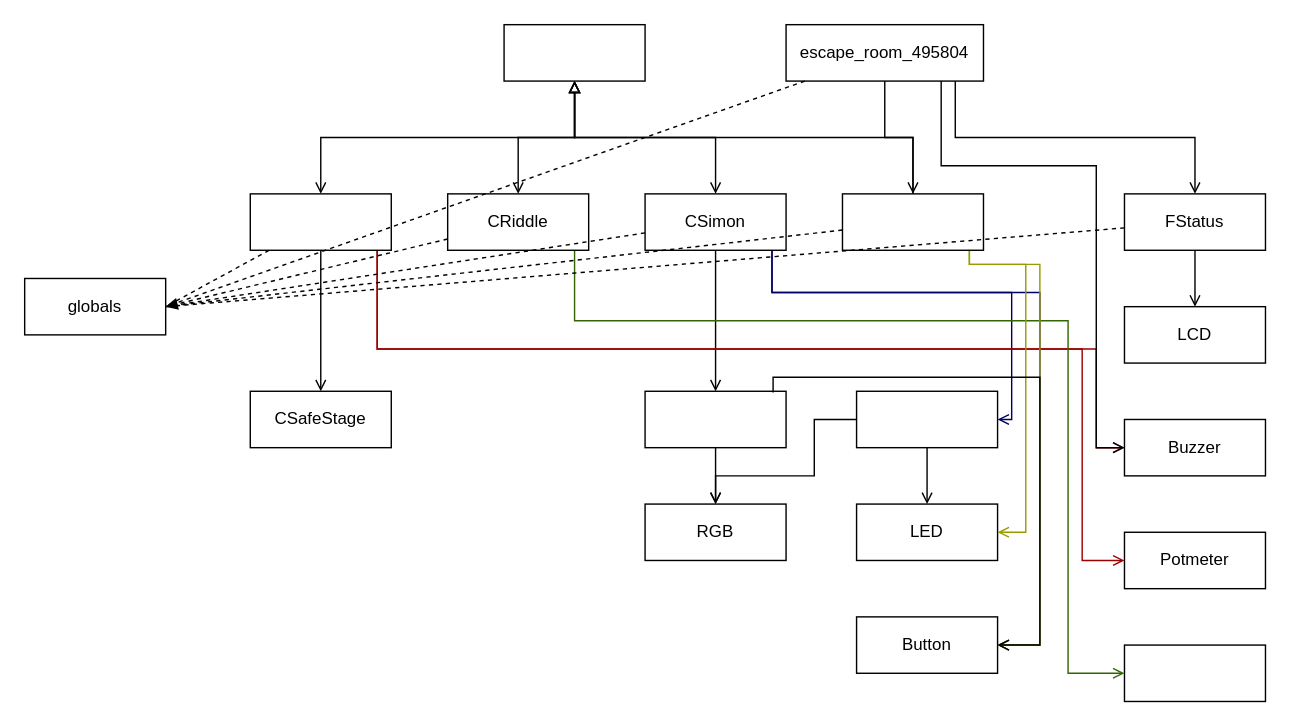
Image size: 1290x726. Some labels were removed from this diagram. The box of each missing label's shape, as (x1, y1, x2, y2) in pixels:
Challenge: (503, 23, 645, 81)
CReaction: (841, 192, 983, 250)
CSafe: (249, 192, 391, 250)
CSimonColor: (644, 390, 786, 448)
LEDKey: (1123, 644, 1265, 701)
RGBLED: (855, 390, 998, 448)
